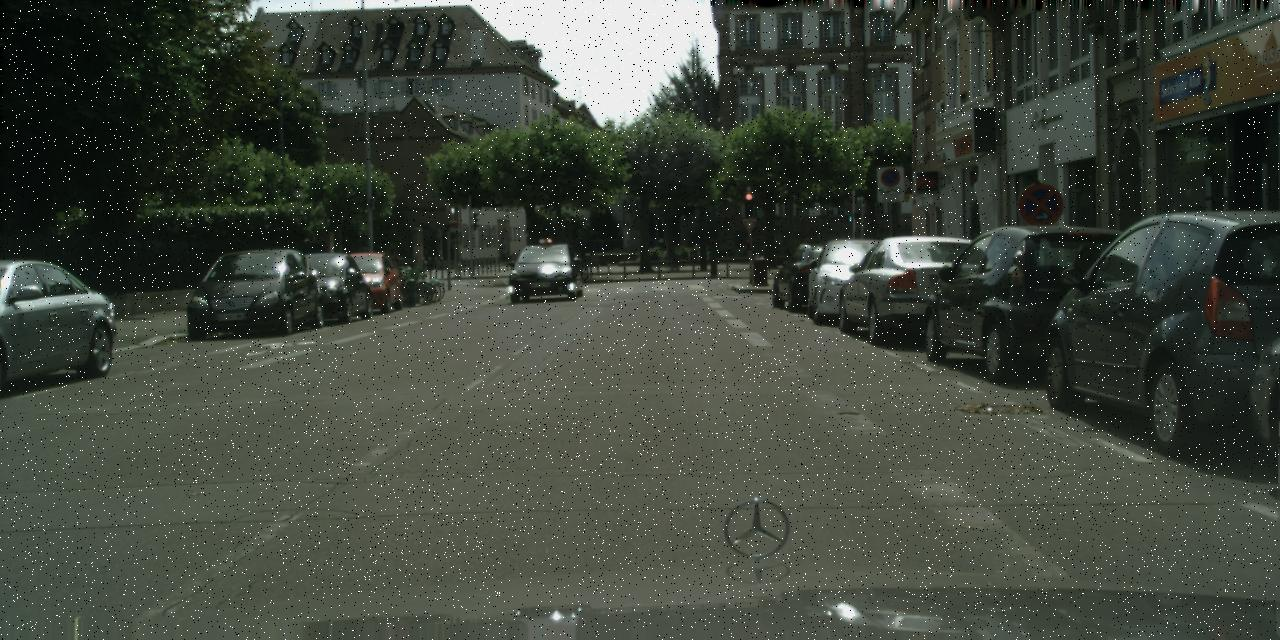ped: (384, 250, 399, 269)
